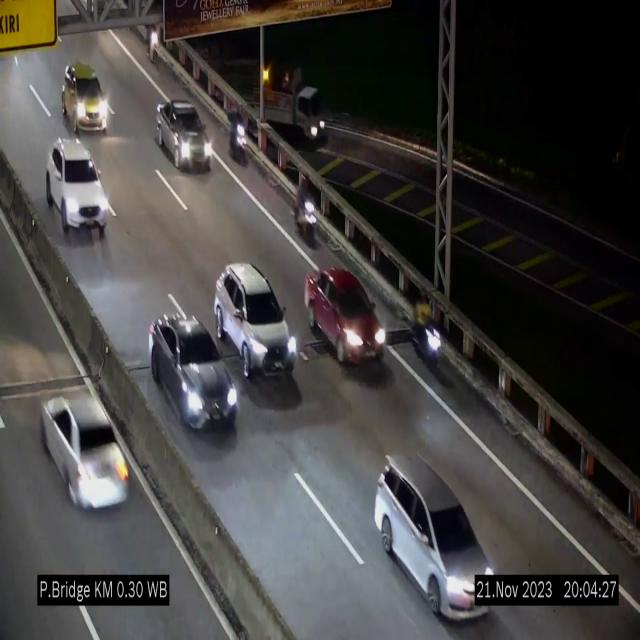Car: (375, 458, 497, 620), (36, 377, 137, 523), (149, 316, 239, 430), (214, 263, 298, 378), (305, 266, 387, 368), (46, 138, 110, 237), (63, 60, 115, 136), (155, 100, 211, 170)
Motorcycle: (409, 274, 445, 380), (294, 169, 322, 251), (225, 99, 250, 170), (140, 16, 162, 66)
Truck: (250, 46, 332, 160)
